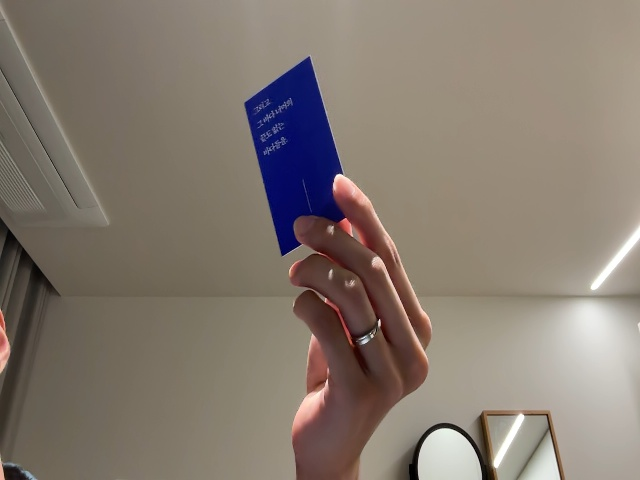card: (242, 54, 366, 254)
